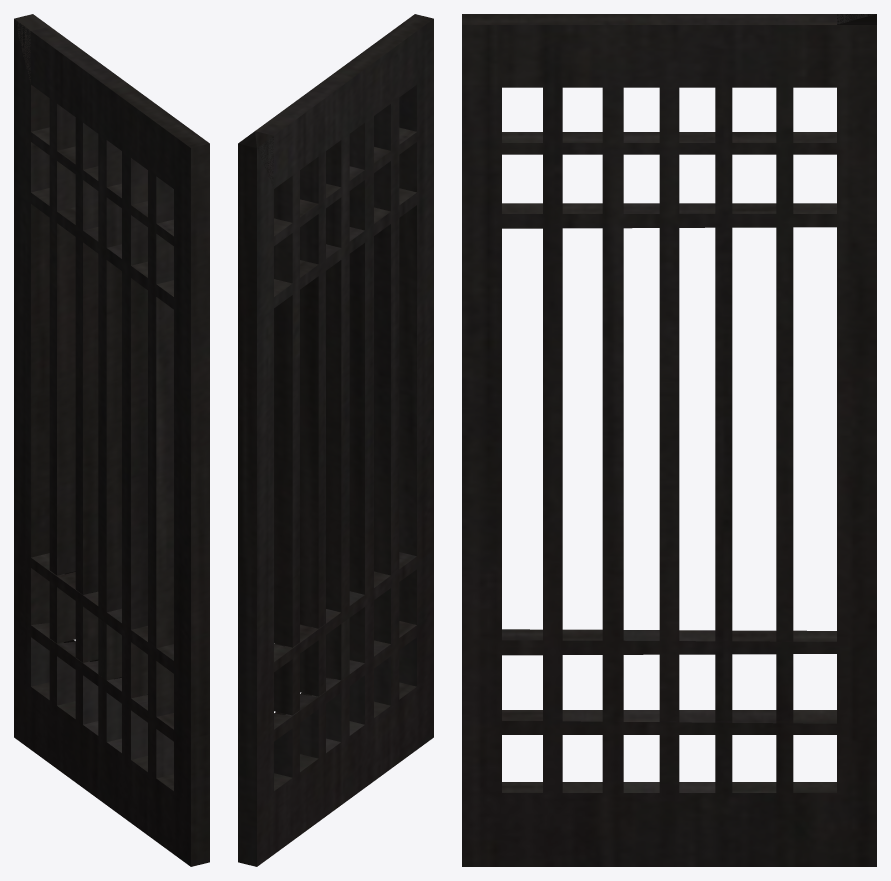
File: outside_window.fbx
3 renders of one model, left to right at view 1: azimuth 30°, elevation 25°; view 2: azimuth 150°, elevation 25°; view 3: azimuth 270°, elevation 25°, orthographic. The views are drawn at different scales.
Parts seen in each view (by area): view 1: pCube215; view 2: pCube215; view 3: pCube215.
Part boxes in pixels (x1,y1,x2,y2): pCube215: [14, 14, 209, 866]; pCube215: [238, 14, 433, 866]; pCube215: [462, 14, 876, 866].
Size of the model in its own units: 11.79 by 426 by 190.
